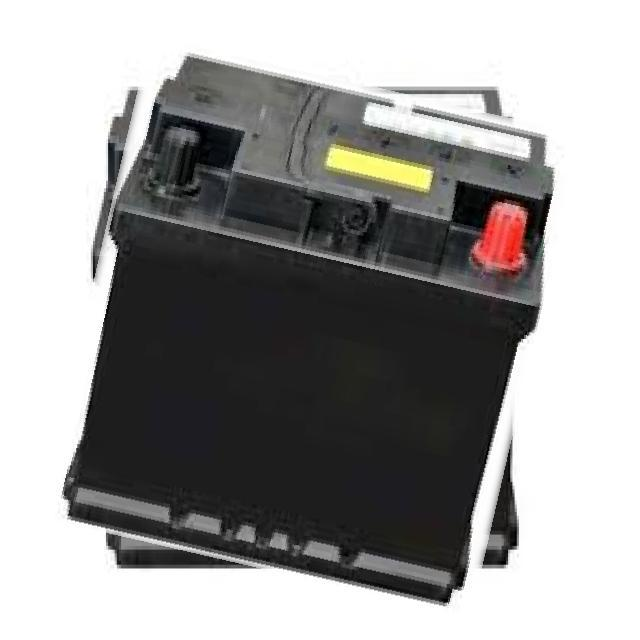Battery: (14, 47, 640, 608)
